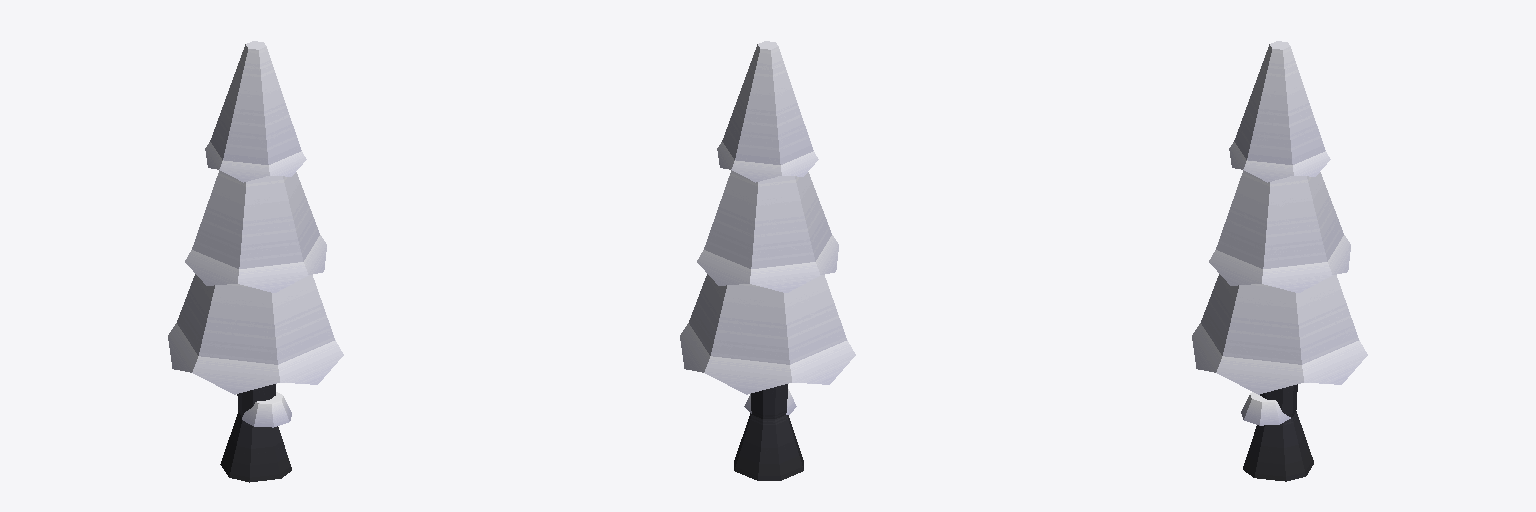
The picture shows the model from 3 angles: view 1: azimuth 30°, elevation 25°; view 2: azimuth 150°, elevation 25°; view 3: azimuth 270°, elevation 25°; orthographic projection.
Parts seen in each view (by area): view 1: tree.065; view 2: tree.065; view 3: tree.065.
Boxes of the visible parts, <box> form: tree.065: <box>168,41,343,482</box>; tree.065: <box>680,41,855,480</box>; tree.065: <box>1192,41,1367,481</box>.
Size of the model in its own units: 1.31 by 3.47 by 1.32.
Materials: 1 (1 with a texture image).